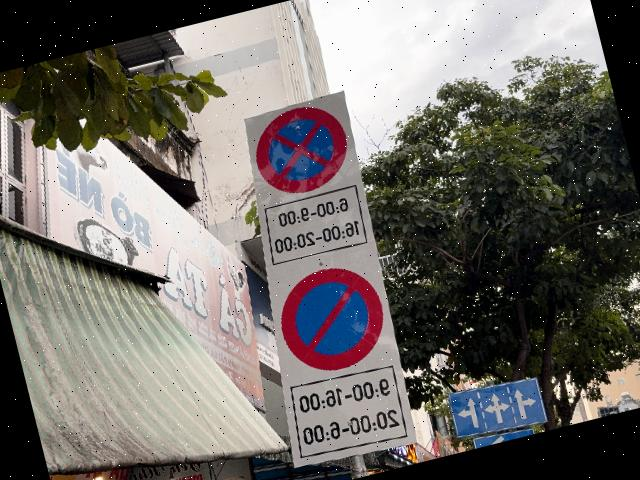cam-do-xe: (271, 257, 394, 380)
cam-dung-va-do-xe: (245, 98, 356, 202)
